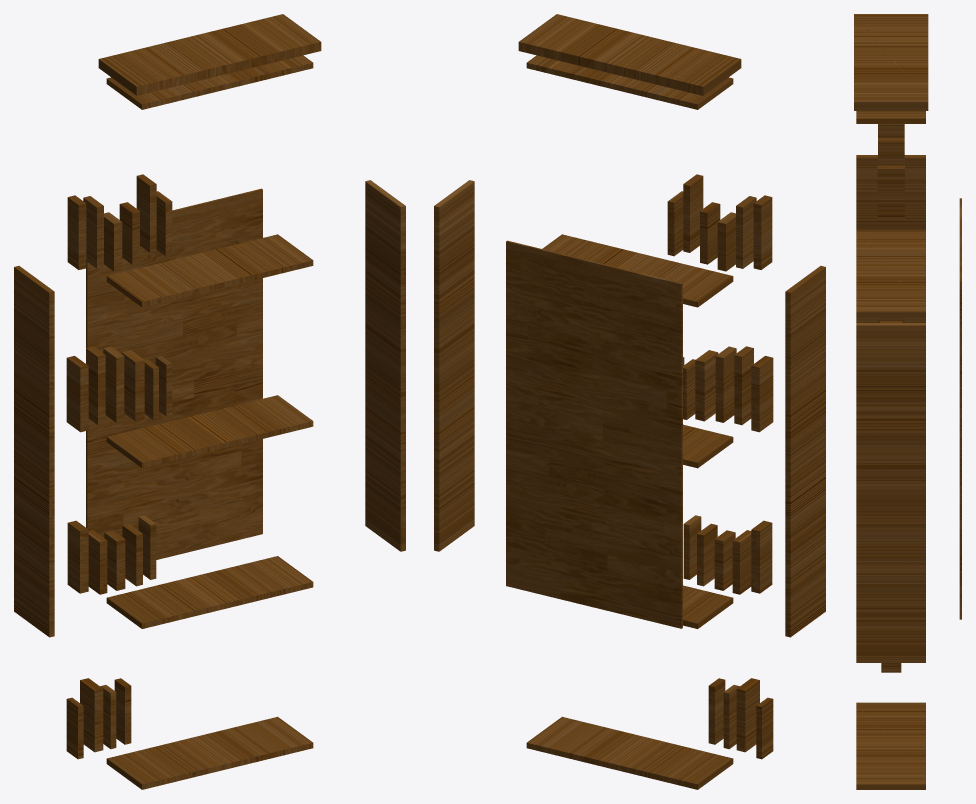
File: bookshelf.glb
3 views of the same model, side by side, from view 1: azimuth 30°, elevation 25°; view 2: azimuth 150°, elevation 25°; view 3: azimuth 270°, elevation 25° (orthographic). The views are drawn at different scales.
Visible parts, largest first — view 1: bookshelf; view 2: bookshelf; view 3: bookshelf.
Boxes of the visible parts, bbox=[...] form: bookshelf: bbox=[14, 14, 405, 789]; bookshelf: bbox=[434, 14, 825, 789]; bookshelf: bbox=[854, 14, 961, 789].
Bounding box in the file's own units: 0.812 × 1.54 × 0.2175.
Materials: 1 (1 with a texture image).
